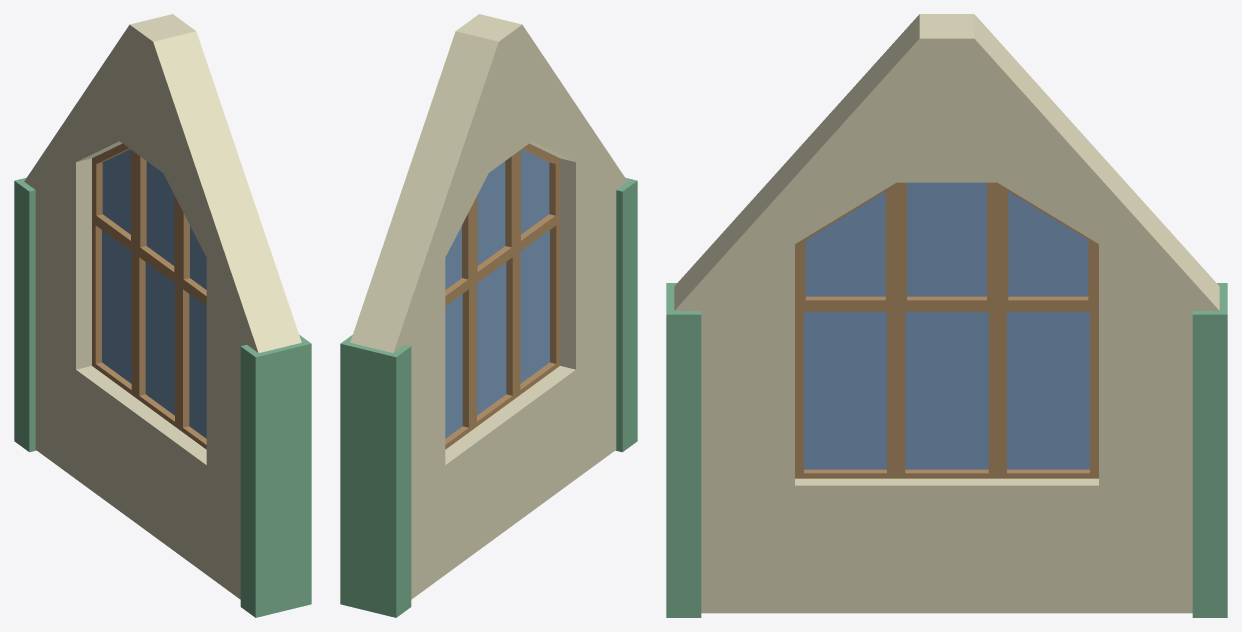
Rendered from Window02_house3.obj.
3 views of the same model, side by side, from view 1: azimuth 30°, elevation 25°; view 2: azimuth 150°, elevation 25°; view 3: azimuth 270°, elevation 25° (orthographic). The views are drawn at different scales.
Visible parts, largest first — view 1: Window02_house3_Cube.006; view 2: Window02_house3_Cube.006; view 3: Window02_house3_Cube.006.
Part boxes in pixels (<box>): Window02_house3_Cube.006: <box>14,14,311,617</box>; Window02_house3_Cube.006: <box>340,14,637,617</box>; Window02_house3_Cube.006: <box>666,14,1227,617</box>.
Size of the model in its own units: 0.7462 by 6.31 by 5.58.
